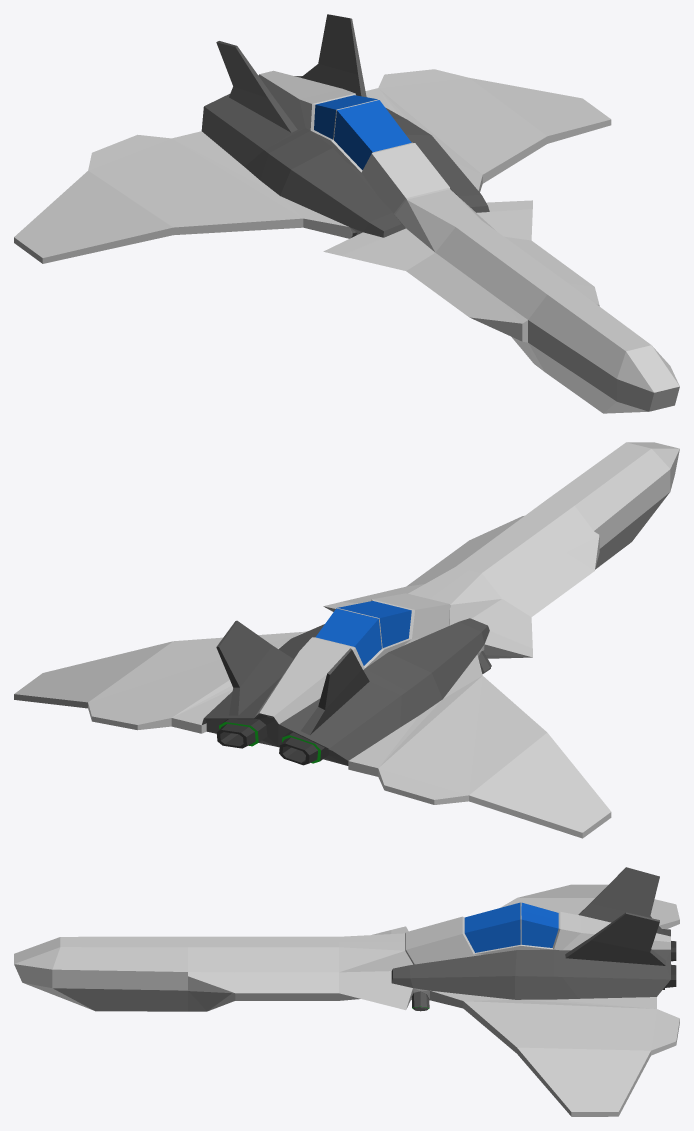
Rendered from ship3New.fbx.
3 renders of one model, top to bottom at view 1: azimuth 30°, elevation 25°; view 2: azimuth 150°, elevation 25°; view 3: azimuth 270°, elevation 25°, orthographic. The views are drawn at different scales.
Parts seen in each view (by area): view 1: Base; view 2: Base; view 3: Base.
Boxes of the visible parts, x1,y1,x2,y2 form: Base: [14, 14, 679, 413]; Base: [14, 442, 679, 838]; Base: [14, 867, 679, 1116].
Size of the model in its own units: 0.1724 by 0.0408 by 0.2132.
